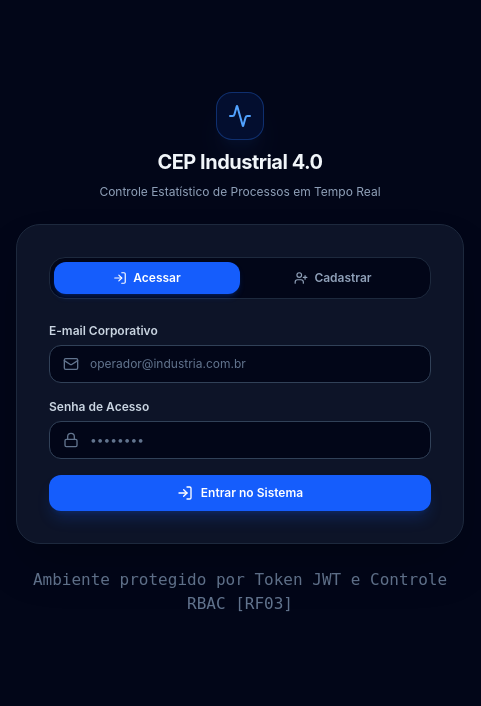
Fase 6 - Autenticação, RBAC e Experiência do Usuário › LoginPage › deve renderizar campos de login e permitir alternar para cadastro
Expected: the heading "CEP Industrial 4.0" is shown, [157,150,322,174]
Expected: the field labelled "E-mail Corporativo" is shown, [49,345,431,383]
Alternar para cadastro
Click the button "Cadastrar" at (333, 278), box [240,262,426,294]
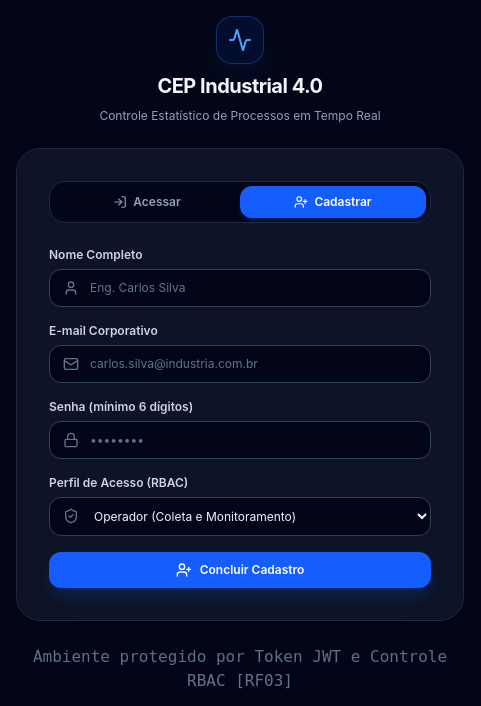
Expected: the field labelled "Nome Completo" is shown, [49,268,431,306]
Result: the dropdown labelled "Perfil de Acesso (RBAC)" is shown at [49,496,431,536]
Result: the text "Concluir Cadastro" is shown at [200,562,304,578]
